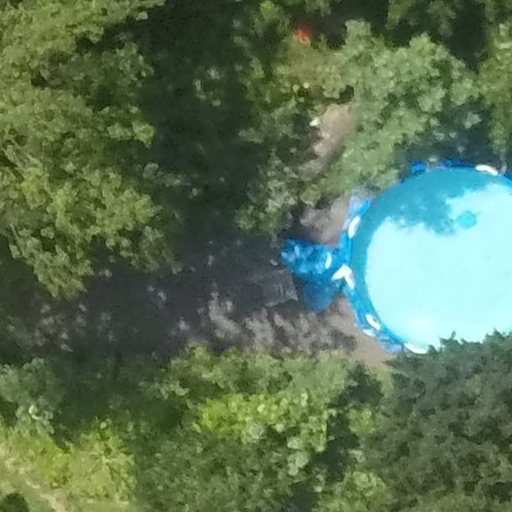pool: (278, 106, 512, 348)
